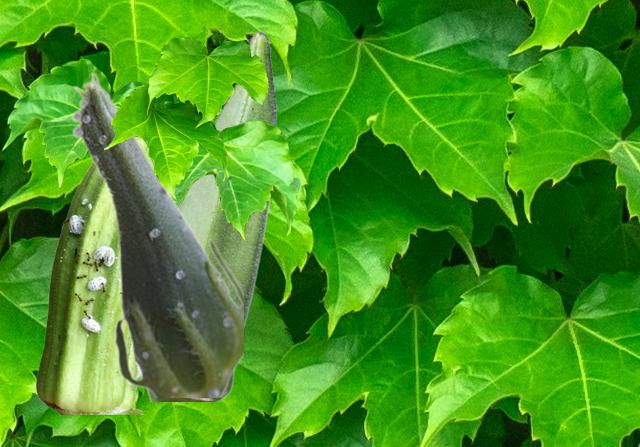okra: (70, 72, 242, 396), (144, 31, 276, 400), (36, 138, 177, 413)
